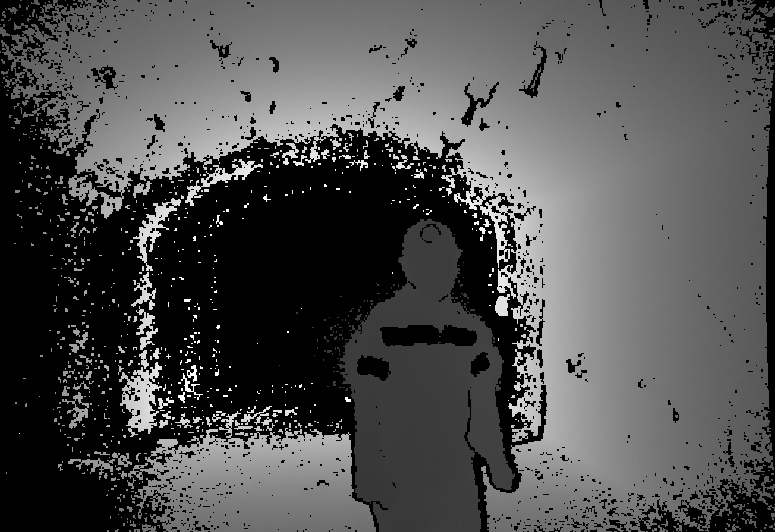person: (339, 219, 517, 532)
